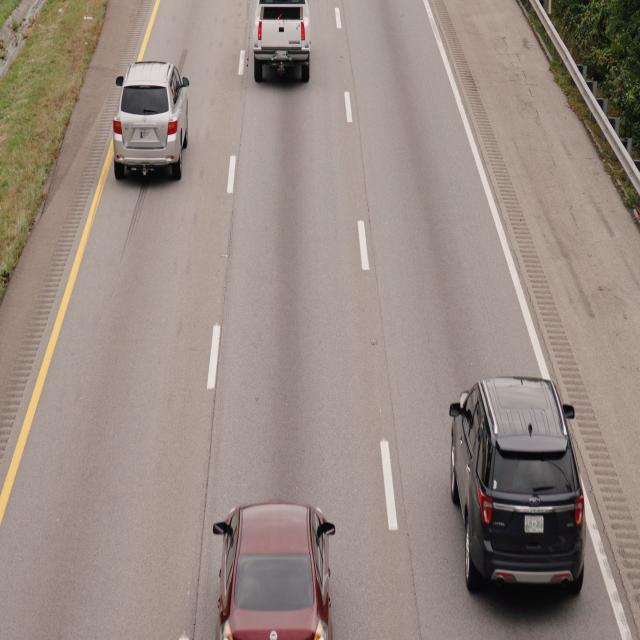Car: (447, 374, 592, 604), (208, 500, 339, 640), (112, 58, 191, 184), (253, 0, 317, 87)
